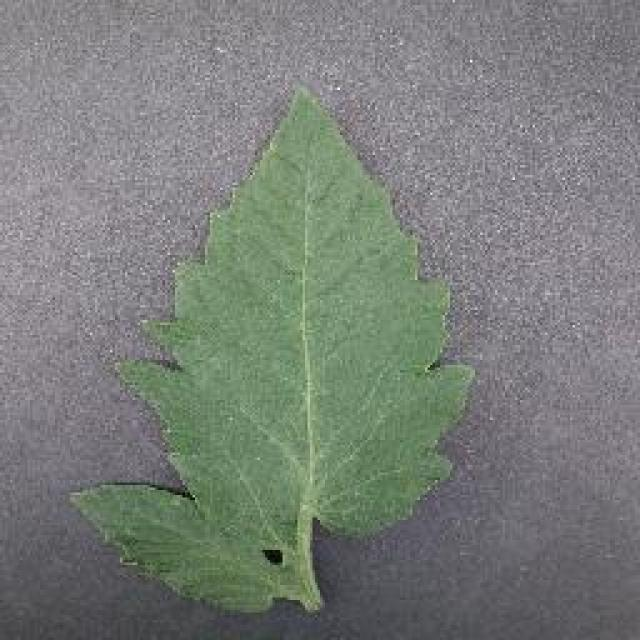Tomato healthy leaf: (75, 98, 470, 620)
